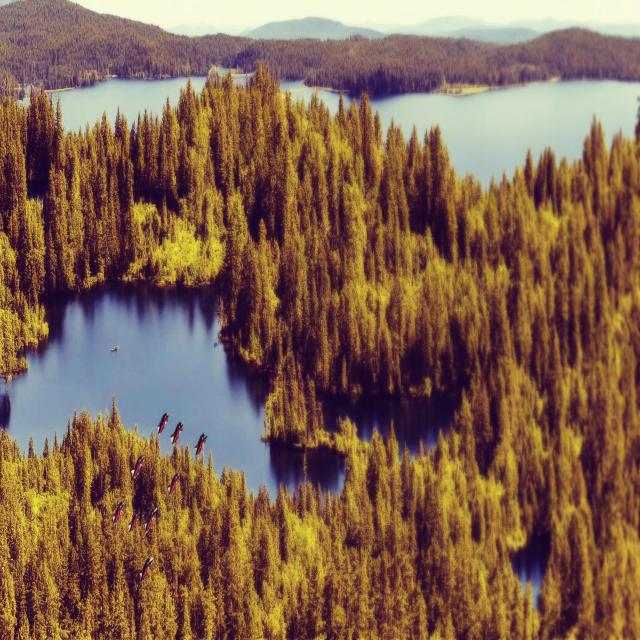airplane: (138, 555, 154, 586), (145, 503, 157, 535), (111, 500, 124, 528), (195, 432, 208, 459), (129, 454, 143, 478), (171, 419, 183, 446), (168, 470, 180, 495), (157, 411, 168, 438), (129, 509, 140, 532)
